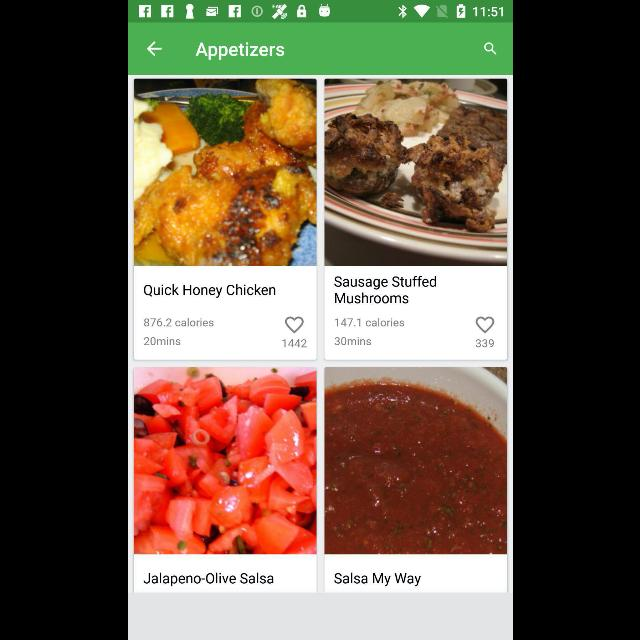icon: (474, 316, 494, 334), (284, 316, 304, 334), (145, 42, 161, 56), (482, 42, 496, 56)
image: (132, 78, 316, 266), (324, 78, 506, 266), (324, 368, 506, 554), (134, 368, 316, 554)
text: (334, 275, 436, 303), (143, 284, 275, 298), (143, 572, 273, 586), (194, 42, 284, 60), (334, 572, 421, 586), (334, 318, 404, 327), (143, 318, 213, 327), (144, 336, 180, 346), (334, 337, 371, 345), (282, 339, 306, 348), (475, 339, 493, 347)
toolbar: (128, 23, 512, 75)
uppertaskbar: (128, 1, 512, 23)
